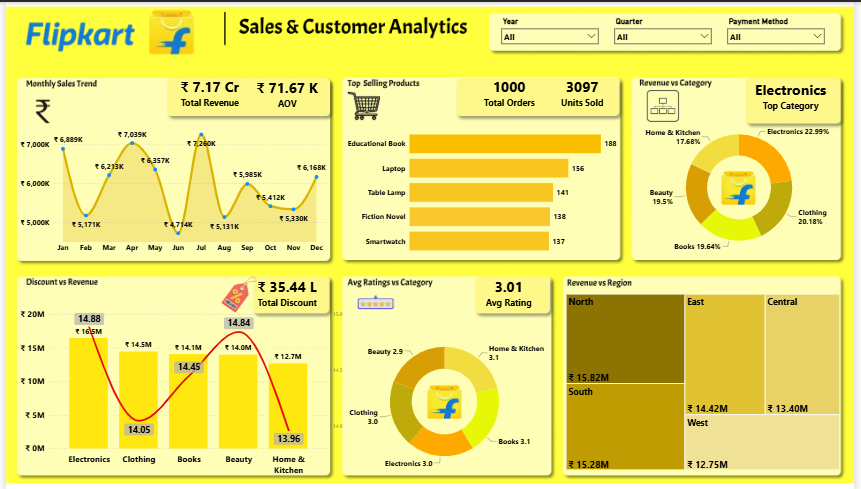

The dashboard page shown, as its layout file describes it:
{"tool":"powerbi","page":{"name":"Dashboard","canvas":[1920,1110],"ordinal":0},"visuals":[{"type":"lineChart","fields":{"Y":["Measures (2).Revenue"],"Category":["Date Table.Month"]},"box":[27.2,265,702.2,312.6],"z":0},{"type":"clusteredBarChart","fields":{"Category":["flipkart_sales.Product Name"],"Y":["Measures (2).Units Sold"]},"box":[767.9,265,620.7,326.2],"z":1000},{"type":"donutChart","fields":{"Y":["Measures (2).Revenue"],"Category":["flipkart_sales.Category"]},"box":[1427.1,249.2,466.7,342.1],"z":2000},{"type":"treemap","fields":{"Group":["flipkart_sales.Region"],"Values":["Measures (2).Revenue"]},"box":[1264,656.9,629.8,407.8],"z":3000},{"type":"donutChart","fields":{"Category":["flipkart_sales.Category"],"Y":["Avg(flipkart_sales.Customer Rating)"]},"box":[754.3,729.4,478,351.1],"z":4000},{"type":"lineClusteredColumnComboChart","fields":{"Category":["flipkart_sales.Category"],"Y2":["Avg(flipkart_sales.Discount(%))"],"Y":["Measures (2).Revenue"]},"box":[27.2,688.7,756.6,391.9],"z":5000},{"type":"slicer","fields":{"Values":["Date Table.Year"]},"box":[1112.3,27.2,239.5,78.3],"z":6000},{"type":"slicer","fields":{"Values":["Date Table.Quarter"]},"box":[1368.2,27.2,239.5,80.6],"z":7000},{"type":"slicer","fields":{"Values":["flipkart_sales.Payment Method"]},"box":[1624.2,27.2,239.5,78.3],"z":8000},{"type":"cardVisual","fields":{"Data":["Measures (2).Total Revenue"]},"box":[355.7,151.8,197.1,106.5],"z":9000},{"type":"cardVisual","fields":{"Data":["Measures (2).AOV"]},"box":[530.1,158.6,199.3,95.1],"z":10000},{"type":"cardVisual","fields":{"Data":["Measures (2).Total Orders"]},"box":[1033,145,199.3,120.1],"z":11000},{"type":"cardVisual","fields":{"Data":["Measures (2).Units Sold"]},"box":[1198.3,145,199.3,120.1],"z":12000},{"type":"cardVisual","fields":{"Data":["Measures (2).Avg Rating"]},"box":[1014.9,609.4,233.3,95.1],"z":13000},{"type":"cardVisual","fields":{"Data":["Measures (2).Total Discount"]},"box":[530.1,611.6,199.3,92.9],"z":14000},{"type":"cardVisual","fields":{"Data":["Measures (2).Top Category"]},"box":[1660.5,151.8,219.7,120.1],"z":15000},{"type":"image","box":[1608.4,378.3,101.9,86.1],"z":16000},{"type":"image","box":[942.4,863.1,101.9,86.1],"z":17000},{"type":"image","box":[27.2,199.3,113.3,97.4],"z":18000},{"type":"image","box":[754.3,199.3,113.3,72.5],"z":19000},{"type":"image","box":[1431.7,199.3,113.3,72.5],"z":20000},{"type":"image","box":[475.7,620.7,106.5,83.8],"z":21000},{"type":"image","box":[783.8,636.6,106.5,92.9],"z":22000}]}

Visuals, with their boxes in screenshot pixels (x1, y1, x2, y2), scaled from the page's 1920x1110 canvas onto the 861x489 screenshot:
lineChart - Measures (2).Revenue x Date Table.Month: bbox(12, 117, 327, 254)
clusteredBarChart - flipkart_sales.Product Name x Measures (2).Units Sold: bbox(344, 117, 623, 260)
donutChart - Measures (2).Revenue x flipkart_sales.Category: bbox(640, 110, 849, 260)
treemap - flipkart_sales.Region x Measures (2).Revenue: bbox(567, 289, 849, 469)
donutChart - flipkart_sales.Category x Avg(flipkart_sales.Customer Rating): bbox(338, 321, 553, 476)
lineClusteredColumnComboChart - flipkart_sales.Category x Avg(flipkart_sales.Discount(%)): bbox(12, 303, 351, 476)
slicer - Date Table.Year: bbox(499, 12, 606, 46)
slicer - Date Table.Quarter: bbox(614, 12, 721, 47)
slicer - flipkart_sales.Payment Method: bbox(728, 12, 836, 46)
cardVisual - Measures (2).Total Revenue: bbox(160, 67, 248, 114)
cardVisual - Measures (2).AOV: bbox(238, 70, 327, 112)
cardVisual - Measures (2).Total Orders: bbox(463, 64, 553, 117)
cardVisual - Measures (2).Units Sold: bbox(537, 64, 627, 117)
cardVisual - Measures (2).Avg Rating: bbox(455, 268, 560, 310)
cardVisual - Measures (2).Total Discount: bbox(238, 269, 327, 310)
cardVisual - Measures (2).Top Category: bbox(745, 67, 843, 120)
image: bbox(721, 167, 767, 205)
image: bbox(423, 380, 468, 418)
image: bbox(12, 88, 63, 131)
image: bbox(338, 88, 389, 120)
image: bbox(642, 88, 693, 120)
image: bbox(213, 273, 261, 310)
image: bbox(351, 280, 399, 321)
